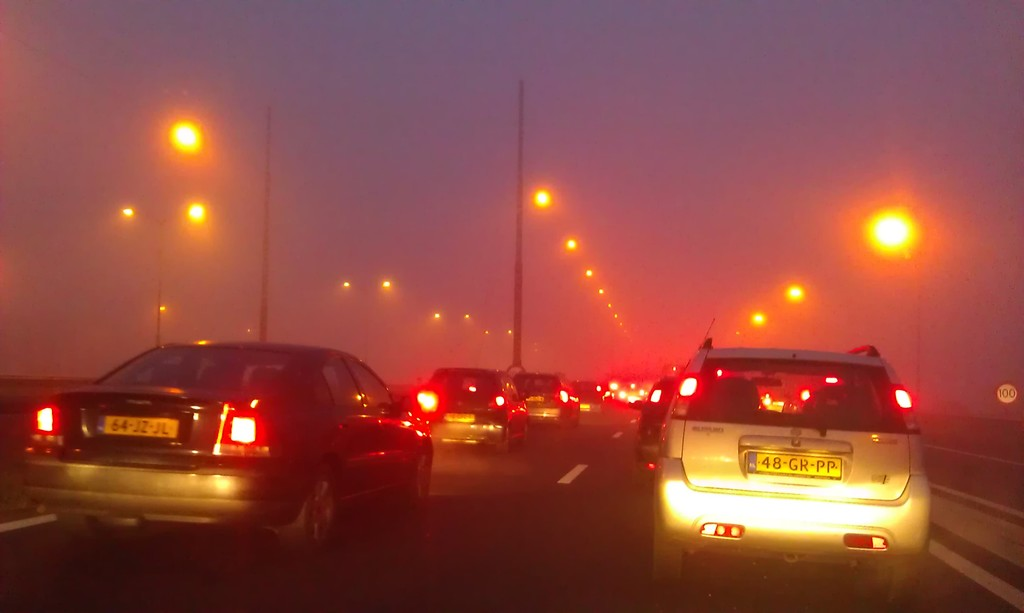license plate: (748, 449, 840, 472)
